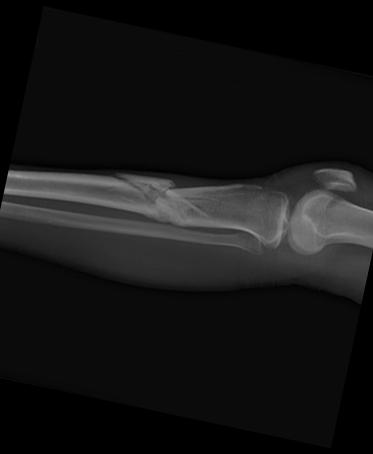fractured: (95, 170, 248, 228)
